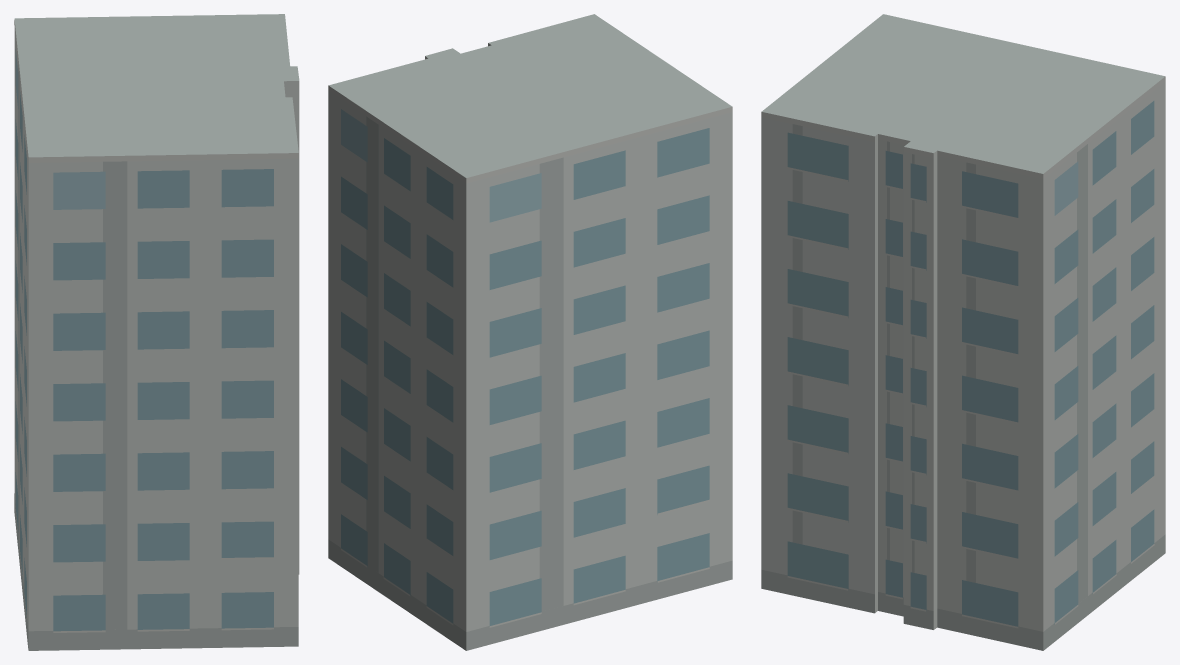
Rendered from survey-upis-32956192.glb.
3 views of the same model, side by side, from view 1: azimuth 30°, elevation 25°; view 2: azimuth 150°, elevation 25°; view 3: azimuth 270°, elevation 25° (orthographic). The views are drawn at different scales.
Visible parts, largest first — view 1: survey-upis-32956192.tmp; view 2: survey-upis-32956192.tmp; view 3: survey-upis-32956192.tmp.
Boxes of the visible parts, x1,y1,x2,y2 form: survey-upis-32956192.tmp: (14,14,299,650); survey-upis-32956192.tmp: (328,14,732,650); survey-upis-32956192.tmp: (761,14,1165,650).
Bounding box in the file's own units: 15.37 × 21.35 × 16.4.
